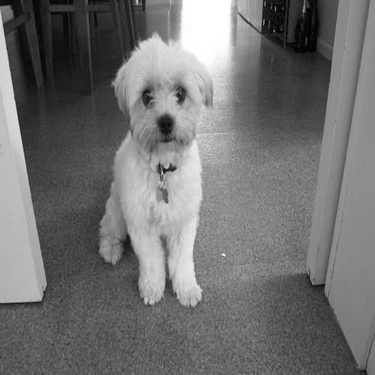dog: (89, 25, 217, 315)
